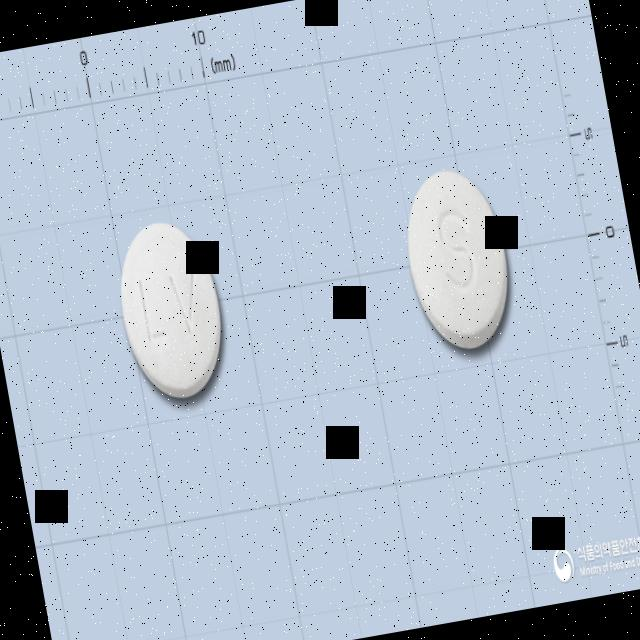Levobacter: (106, 210, 235, 406), (395, 158, 522, 356)
